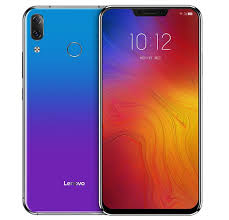lenovo: (95, 4, 203, 214), (19, 6, 100, 216)
